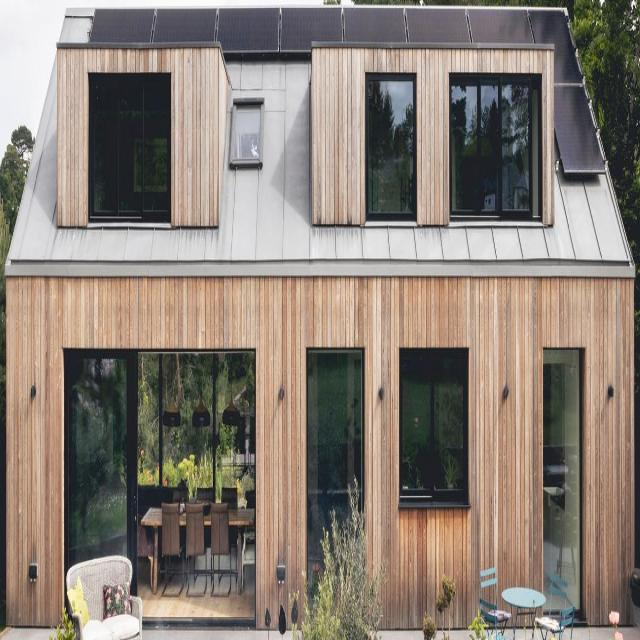door: (66, 351, 138, 607)
plant: (569, 0, 640, 271), (298, 482, 389, 639), (0, 126, 32, 275)
wall: (4, 7, 635, 629)
windows: (307, 348, 364, 606), (399, 341, 467, 505), (542, 351, 582, 620), (451, 80, 533, 210), (90, 78, 169, 210), (367, 76, 416, 224), (231, 98, 260, 158)
